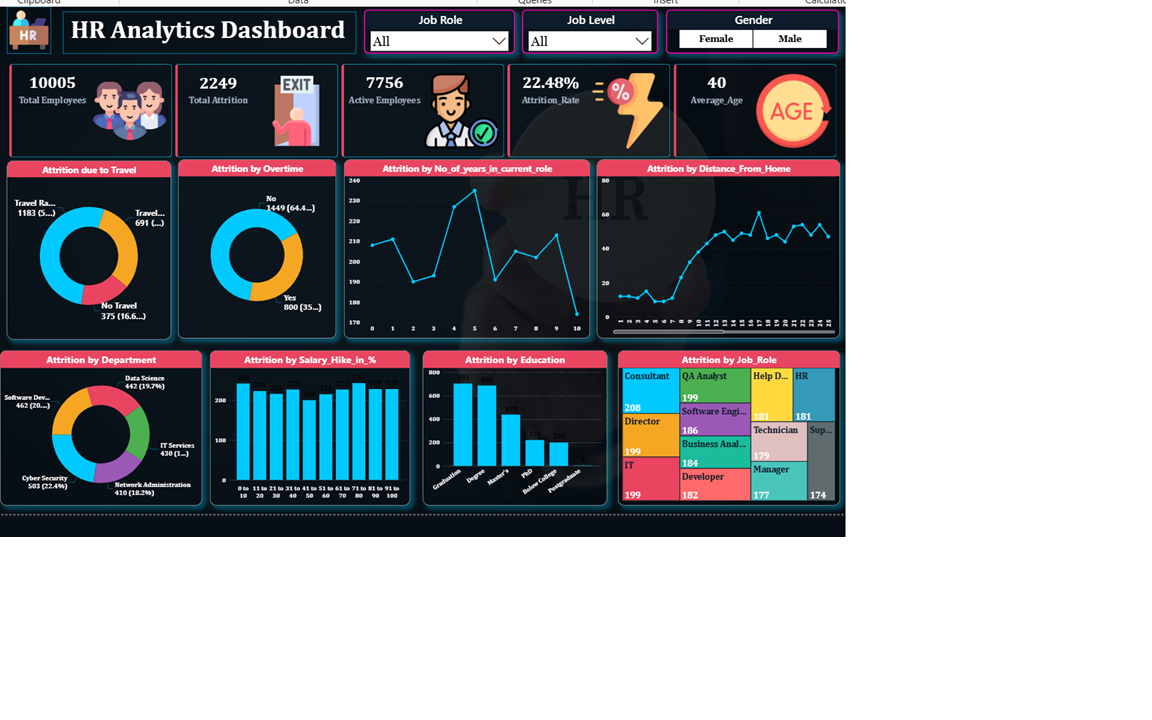

The dashboard page shown, as its layout file describes it:
{"tool":"powerbi","page":{"name":"Page 1","canvas":[2000,1200],"ordinal":0},"visuals":[{"type":"cardVisual","fields":{"Data":["CountNonNull(Employees.Employee_ID)","Employees.Attrition_YES","Employees.Attrition_NO","Employees.Attrition_Rate","Employees.Average_Age"]},"box":[16.6,130.1,1968.5,231.9],"z":0},{"type":"donutChart","title":"Attrition by Department","fields":{"Category":["Employees.Department"],"Y":["Employees.Attrition_YES"]},"box":[0,813.9,477.9,366.7],"z":1000},{"type":"treemap","title":"Attrition by Job_Role","fields":{"Group":["Employees.Job_Role"],"Values":["Employees.Attrition_YES"]},"box":[1462.2,813.9,525.2,366.7],"z":2000},{"type":"lineChart","title":"Attrition by Distance_From_Home","fields":{"Category":["Employees.Distance_From_Home"],"Y":["Employees.Attrition_YES"]},"box":[1412.5,362,574.9,423.5],"z":3000},{"type":"donutChart","title":"Attrition by Overtime","fields":{"Category":["Employees.Overtime"],"Y":["Employees.Attrition_YES"]},"box":[421.1,362,373.8,423.5],"z":4000},{"type":"donutChart","title":"Attrition due to Travel","fields":{"Category":["Employees.Business_Travel"],"Y":["Employees.Attrition_YES"]},"box":[16.6,364.4,388,423.5],"z":8000},{"type":"lineChart","title":"Attrition by No_of_years_in_current_role","fields":{"Category":["Employees.No_of_years_in_current_role"],"Y":["Employees.Attrition_YES"]},"box":[813.9,362,582,423.5],"z":9000},{"type":"columnChart","title":"Attrition by Salary_Hike_in_%","fields":{"Y":["Employees.Attrition_YES"],"Category":["Employees.Salary_Hike_in_percent (groups)"]},"box":[496.8,813.9,473.2,366.7],"z":10000},{"type":"columnChart","title":"Attrition by Education","fields":{"Y":["Employees.Attrition_YES"],"Category":["Employees.Education"]},"box":[1000.8,813.9,435.3,366.7],"z":11000},{"type":"textbox","box":[149.1,11.8,693.2,99.4],"z":14000},{"type":"image","box":[16.6,0,104.1,111.2],"z":15000},{"type":"slicer","title":"Gender","fields":{"Values":["Employees.Gender"]},"box":[1575.4,6.1,409.6,103.9],"z":23000},{"type":"slicer","title":"Job Level","fields":{"Values":["Employees.Job_Level"]},"box":[1235,7.1,321.8,104.1],"z":24000},{"type":"slicer","title":"Job Role","fields":{"Values":["Employees.Job_Role"]},"box":[861.2,7.1,357.3,104.1],"z":25000}]}

Visuals, with their boxes on the page's 2000x1200 design canvas (x1, y1, x2, y2). These are canvas units, not pixel positions in the 1152x720 screenshot, which may show the page scaled, cropped or inside an application window:
cardVisual - CountNonNull(Employees.Employee_ID) x Employees.Attrition_YES: region(17, 130, 1985, 362)
"Attrition by Department" donutChart: region(0, 814, 478, 1181)
"Attrition by Job_Role" treemap: region(1462, 814, 1987, 1181)
"Attrition by Distance_From_Home" lineChart: region(1412, 362, 1987, 786)
"Attrition by Overtime" donutChart: region(421, 362, 795, 786)
"Attrition due to Travel" donutChart: region(17, 364, 405, 788)
"Attrition by No_of_years_in_current_role" lineChart: region(814, 362, 1396, 786)
"Attrition by Salary_Hike_in_%" columnChart: region(497, 814, 970, 1181)
"Attrition by Education" columnChart: region(1001, 814, 1436, 1181)
textbox: region(149, 12, 842, 111)
image: region(17, 0, 121, 111)
"Gender" slicer: region(1575, 6, 1985, 110)
"Job Level" slicer: region(1235, 7, 1557, 111)
"Job Role" slicer: region(861, 7, 1218, 111)
